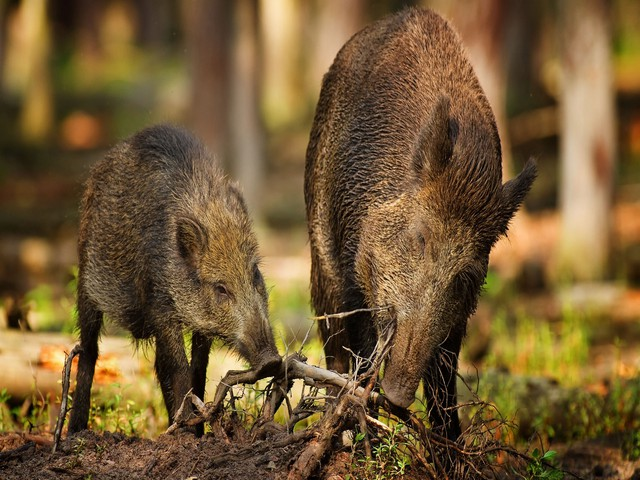Pig: (304, 4, 548, 406), (64, 124, 297, 405)
